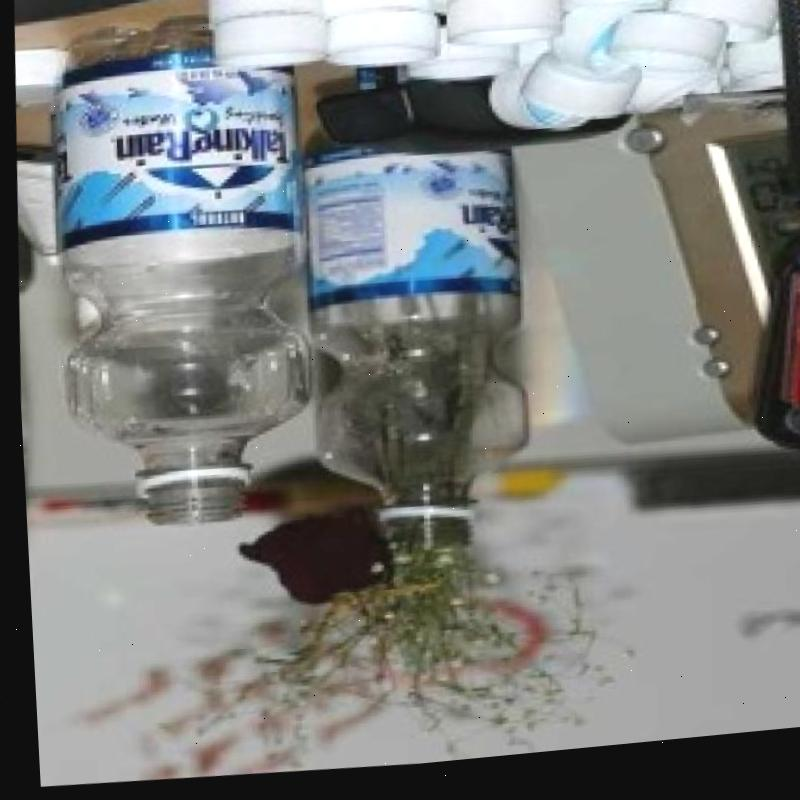botella: (38, 9, 327, 543), (293, 48, 541, 572)
